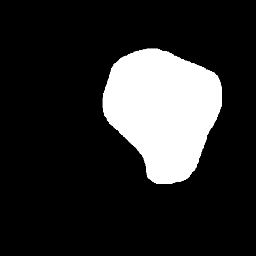mass: (102, 46, 215, 179)
